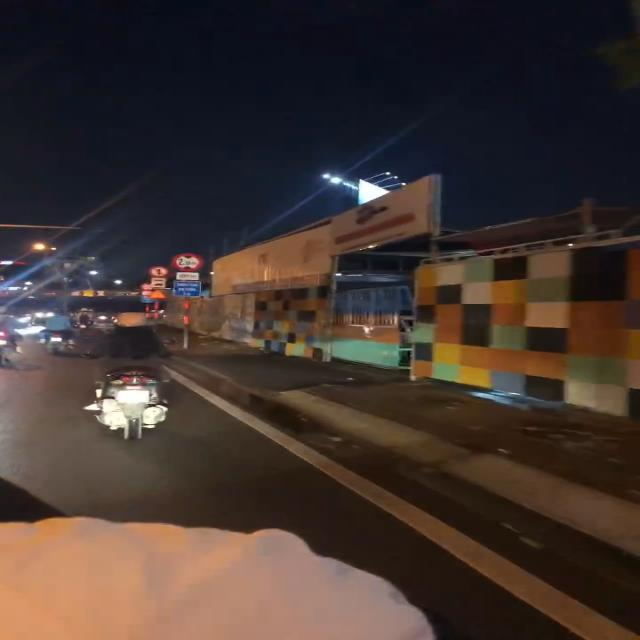Bien bao han che chieu cao: (172, 253, 206, 272)
